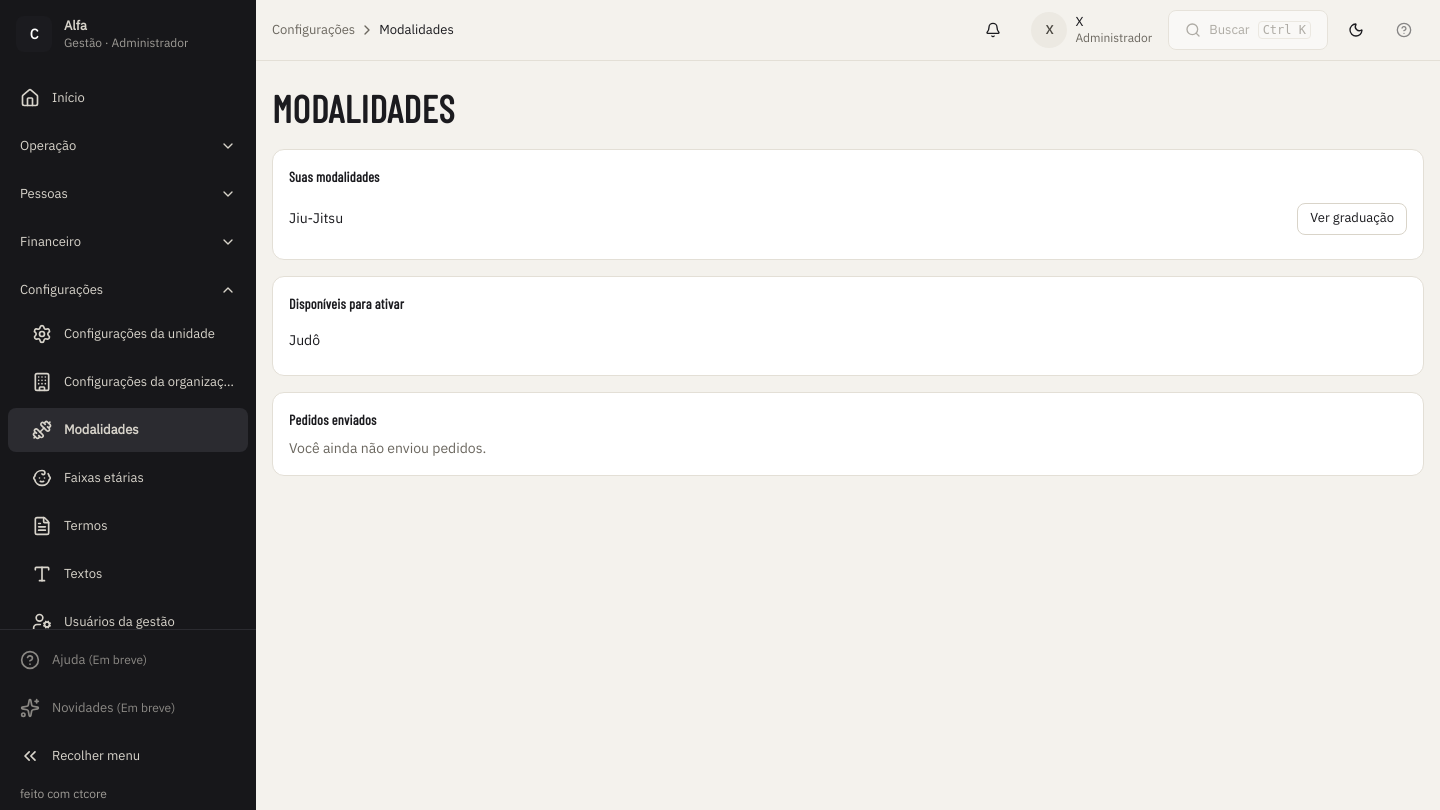
GraduationDialog › CA12: Administrador consulta sem controles de edição
This screenshot has width=1440, height=810.
Expected: the heading "Modalidades" is shown, [272, 85, 455, 132]
Click the button "Ver graduação" at (1352, 218), box [1297, 202, 1407, 234]
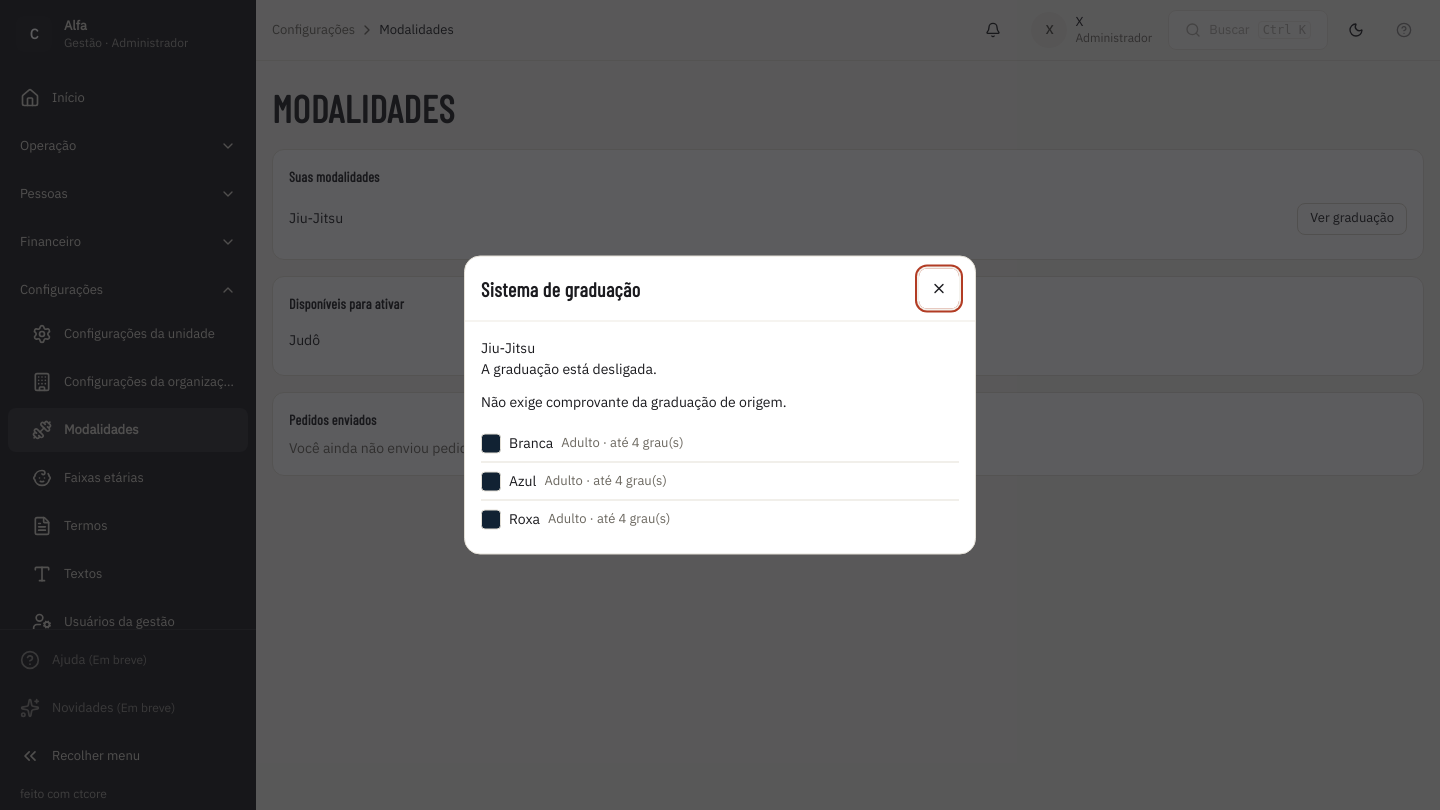
Now the text "A graduação está desligada." is shown, box [481, 360, 657, 378]
Now the text "Azul" is shown, box [509, 470, 536, 492]
